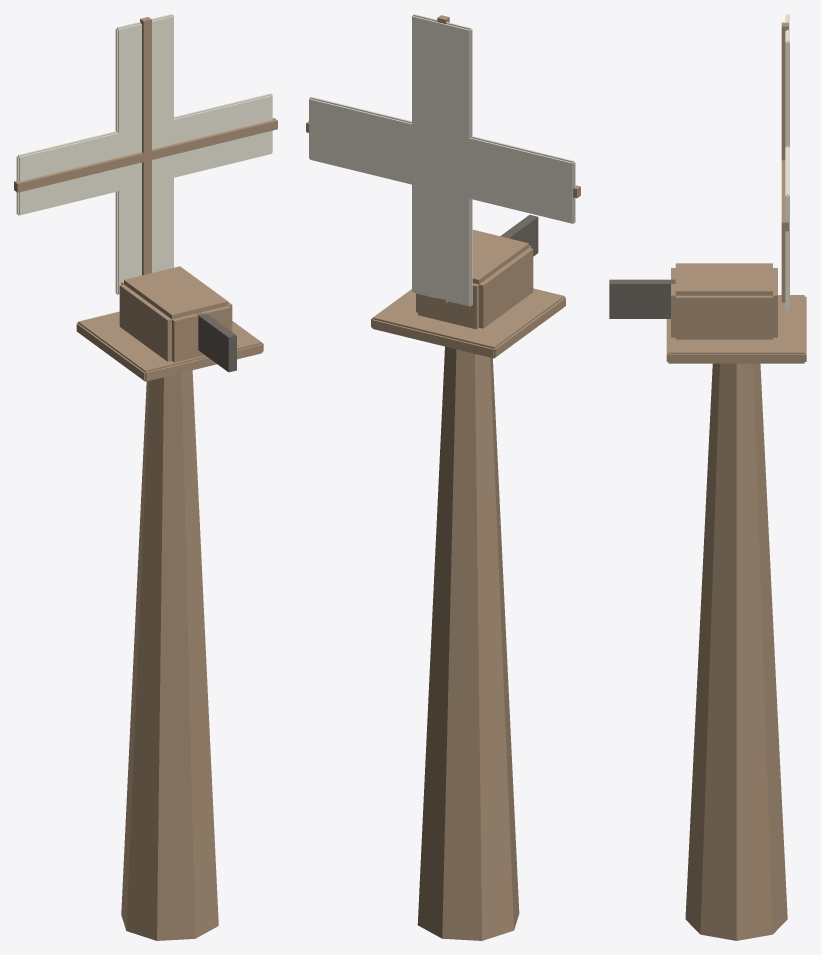
Rendered from windmill.glb.
The picture shows the model from 3 angles, left to right: view 1: azimuth 30°, elevation 25°; view 2: azimuth 150°, elevation 25°; view 3: azimuth 270°, elevation 25°; orthographic projection. The views are drawn at different scales.
Visible parts, largest first — view 1: Tower, Sail_1, Sail_2, Sail_3, Nacelle, Sail_0, Deck, Frame_1, Frame_0, Frame_3, Tail, Frame_2; view 2: Tower, Sail_0, Sail_1, Sail_2, Sail_3, Nacelle, Deck, Tail; view 3: Tower, Nacelle, Deck, Tail, Frame_0, Sail_0, Sail_1.
Part boxes in pixels (bbox=[...]): Tower: bbox=[121, 370, 218, 940]; Sail_1: bbox=[16, 93, 272, 215]; Sail_2: bbox=[115, 14, 173, 282]; Sail_3: bbox=[17, 94, 272, 214]; Nacelle: bbox=[119, 266, 232, 362]; Sail_0: bbox=[115, 14, 173, 294]; Deck: bbox=[76, 311, 263, 381]; Frame_1: bbox=[14, 118, 277, 192]; Frame_0: bbox=[140, 17, 151, 275]; Frame_3: bbox=[14, 120, 277, 192]; Tail: bbox=[197, 312, 236, 372]; Frame_2: bbox=[140, 17, 151, 274]; Tower: bbox=[417, 346, 519, 940]; Sail_0: bbox=[412, 14, 472, 306]; Sail_1: bbox=[309, 96, 575, 223]; Sail_2: bbox=[412, 14, 472, 306]; Sail_3: bbox=[309, 97, 575, 223]; Nacelle: bbox=[416, 229, 533, 329]; Deck: bbox=[371, 288, 565, 358]; Tail: bbox=[500, 214, 538, 256]; Tower: bbox=[685, 363, 787, 940]; Nacelle: bbox=[671, 263, 777, 339]; Deck: bbox=[666, 295, 806, 363]; Tail: bbox=[609, 279, 675, 318]; Frame_0: bbox=[781, 22, 788, 160]; Sail_0: bbox=[785, 14, 789, 255]; Sail_1: bbox=[785, 146, 789, 255].
Bounding box in the file's own units: 2.5 × 8.11 × 1.62.
